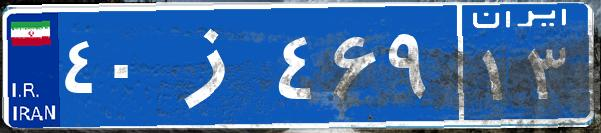0: (110, 28, 158, 105)
1: (475, 38, 525, 113)
3: (525, 38, 570, 115)
4: (273, 28, 330, 110), (57, 26, 110, 107)
6: (330, 28, 385, 110)
9: (385, 28, 445, 110)
ز: (158, 15, 273, 115)
